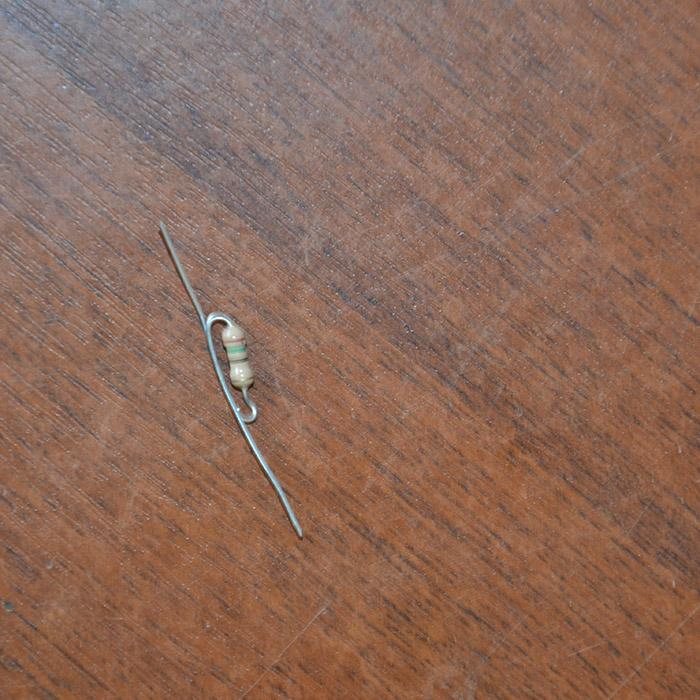resistor: (217, 322, 253, 391)
